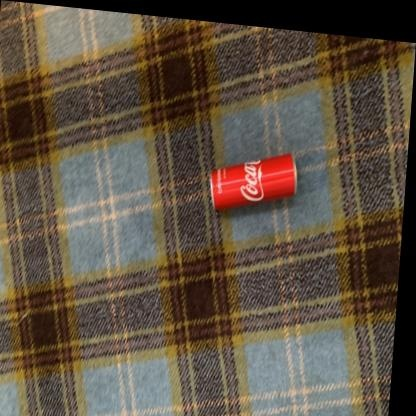trash: (210, 153, 296, 209)
